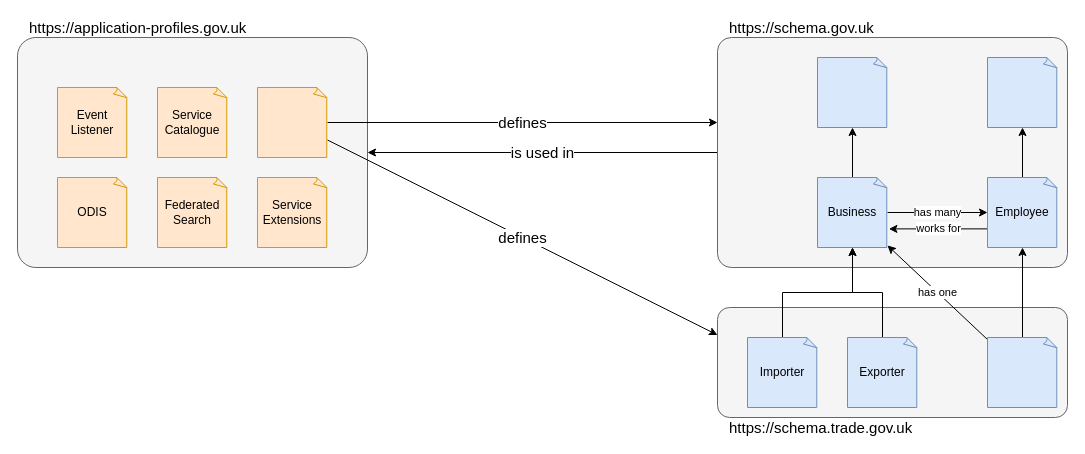
Image size: 1085x454. Some labels were removed from this diagram. The centre of each missing label's shape, as x and y in pixels:
Lead Contact: point (1022, 372)
Organisation: point (852, 92)
Person: point (1022, 92)
Schema Repository: point (292, 122)
